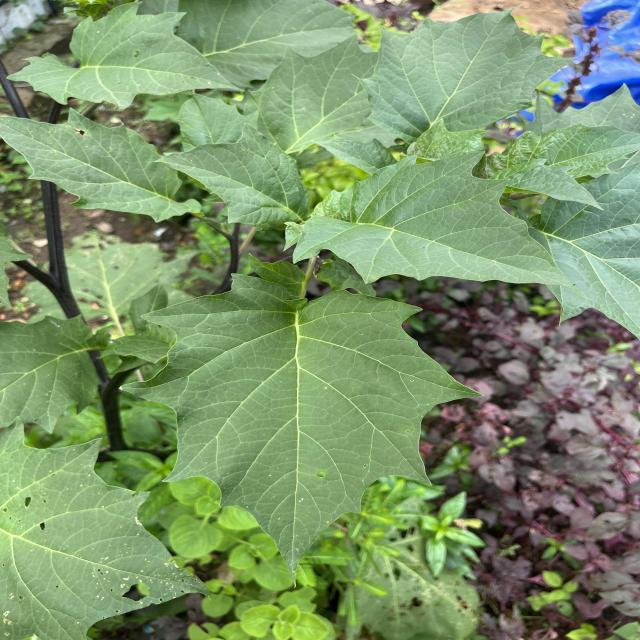Datura metal linn: (115, 267, 489, 590), (289, 149, 592, 302), (348, 0, 581, 139), (3, 0, 250, 114), (1, 103, 206, 224), (140, 120, 315, 235)
